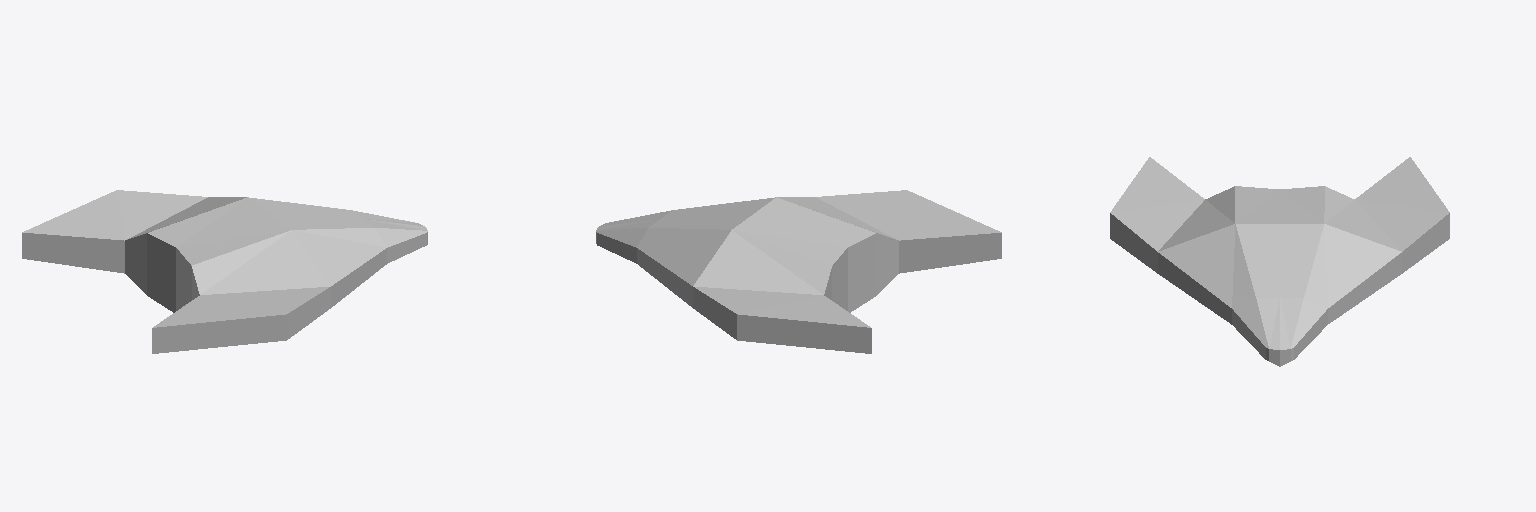
File: spaceship.obj
3 renders of one model, left to right at view 1: azimuth 30°, elevation 25°; view 2: azimuth 150°, elevation 25°; view 3: azimuth 270°, elevation 25°, orthographic.
Parts seen in each view (by area): view 1: spaceship; view 2: spaceship; view 3: spaceship.
Boxes of the visible parts, x1,y1,x2,y2 form: spaceship: [22, 190, 427, 353]; spaceship: [596, 190, 1001, 353]; spaceship: [1110, 157, 1449, 366].
Bounding box in the file's own units: 1.49 × 0.3281 × 1.3.